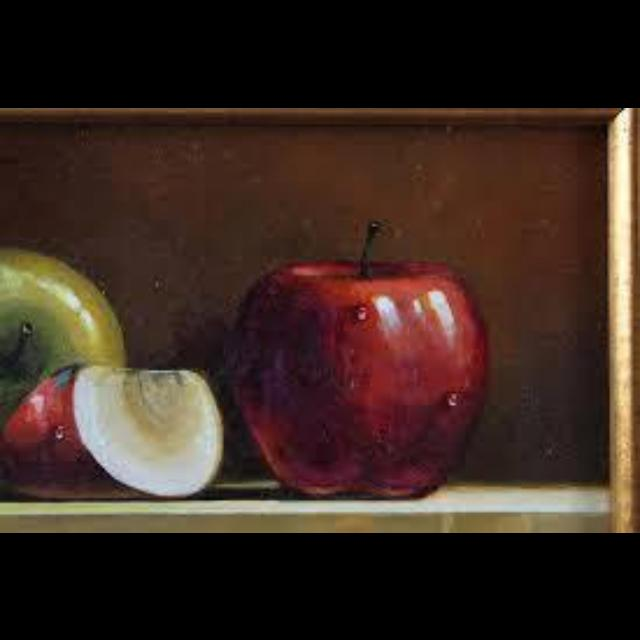apple: (226, 221, 486, 496), (0, 247, 123, 424)
